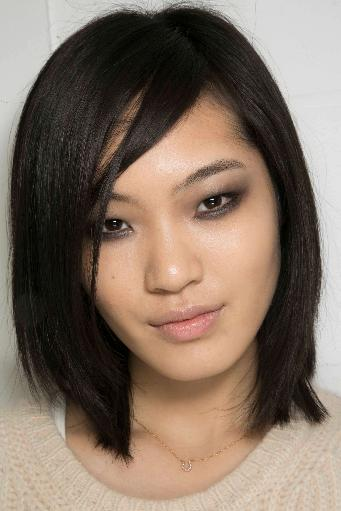left_eye: (193, 189, 245, 226)
left_lip_corner: (216, 299, 231, 318)
right_eye: (101, 215, 137, 243)
right_lip_corner: (145, 316, 162, 337)
